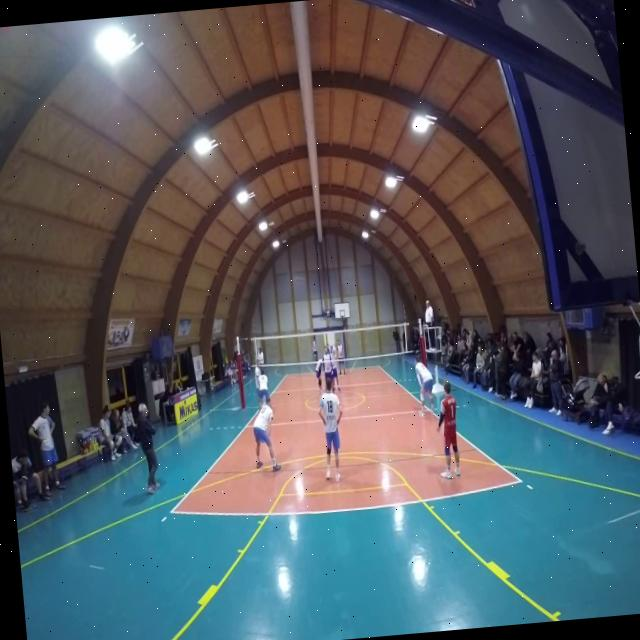serve: (310, 334, 320, 368)
